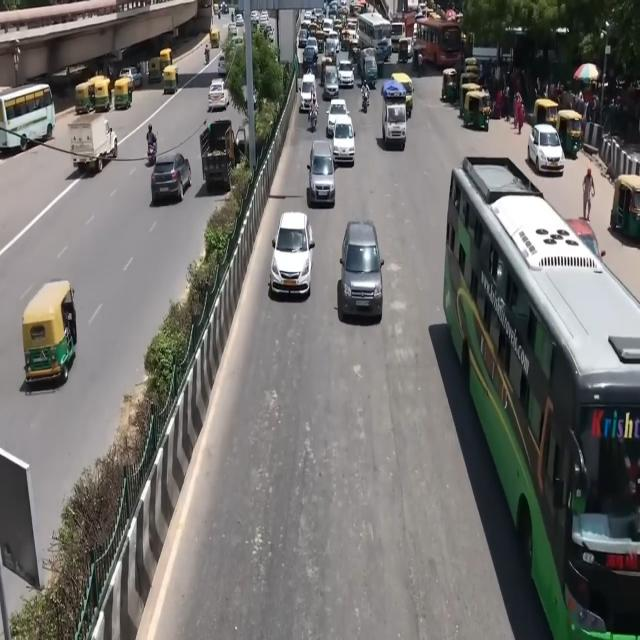auto: (22, 279, 78, 385), (88, 76, 110, 112), (75, 79, 95, 114), (114, 77, 132, 110), (317, 54, 333, 88), (162, 65, 178, 95), (398, 35, 413, 63), (148, 56, 162, 84), (160, 48, 172, 72), (209, 28, 220, 48)
bike-auto: (146, 125, 157, 164), (361, 82, 370, 112), (309, 102, 318, 132), (310, 84, 318, 111), (204, 47, 210, 64)
